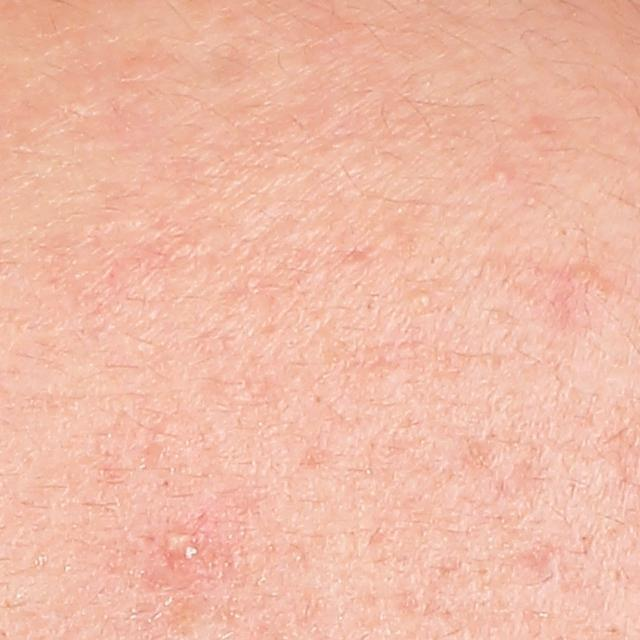atrophic_scar: (493, 544, 554, 588)
comedo: (488, 167, 514, 192), (416, 290, 434, 309)
pustule: (165, 525, 195, 559)
